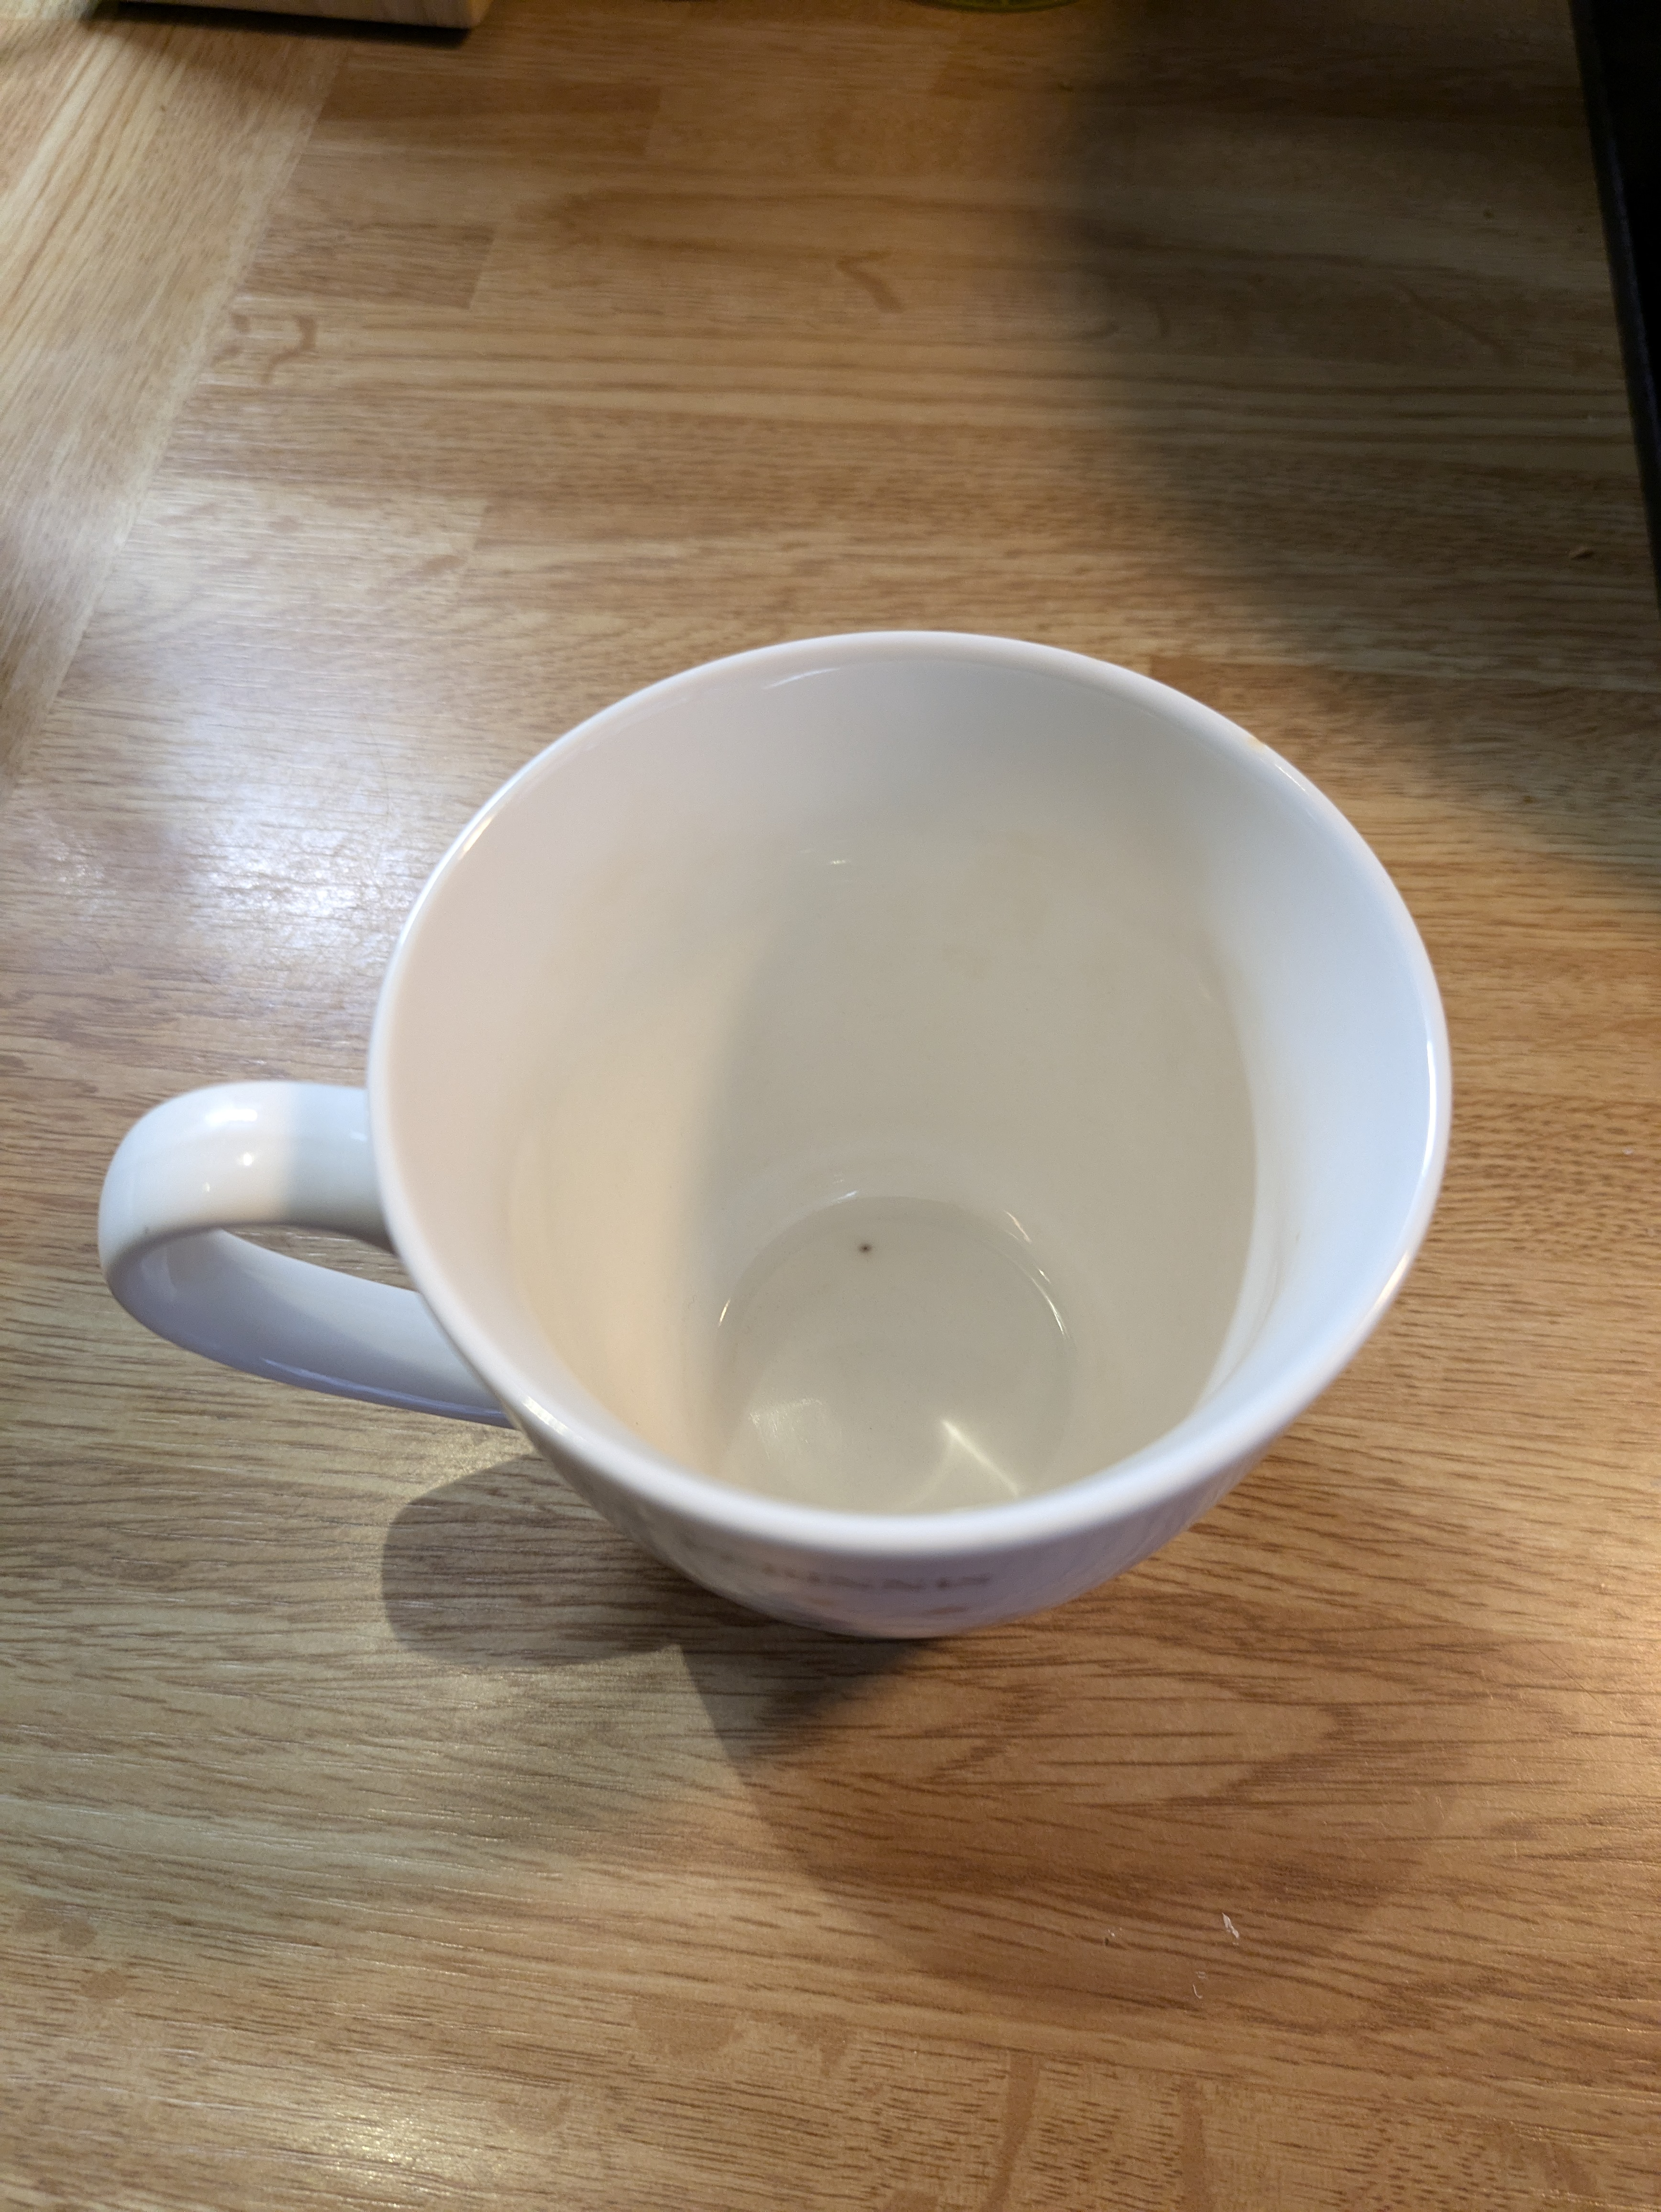mok: (63, 591, 1506, 1708)
